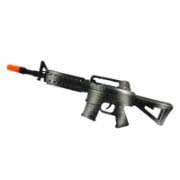Arma Falsa: (5, 59, 178, 128)
